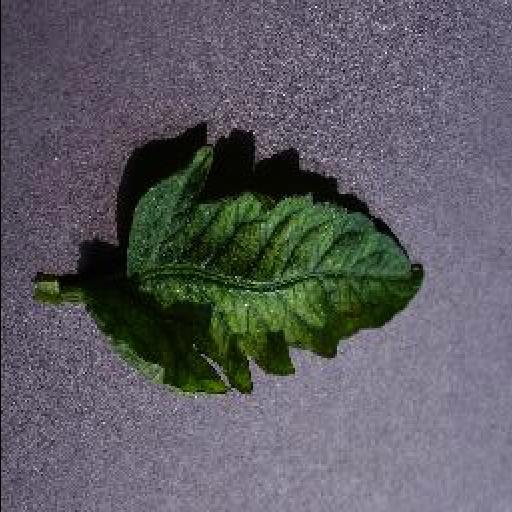disease_tomato: (86, 141, 430, 395)
